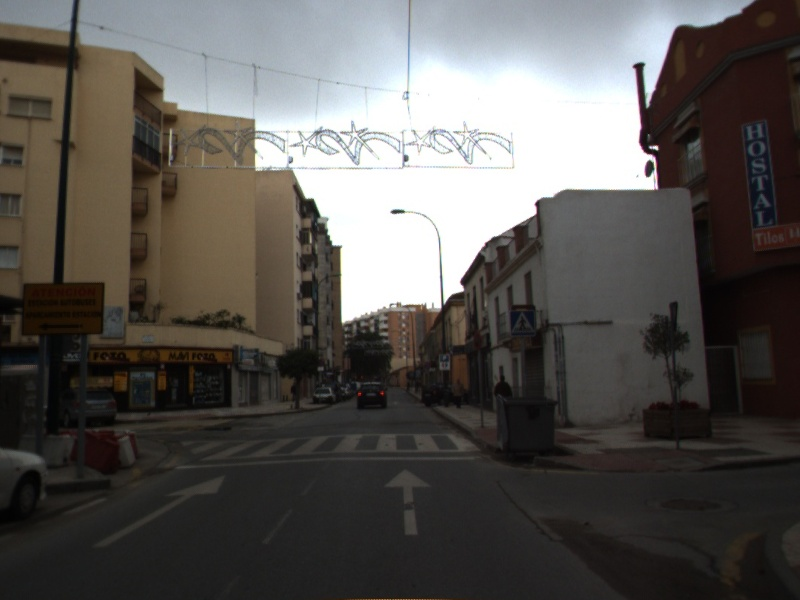STRAIGHT: (89, 473, 227, 551), (381, 466, 434, 537)
